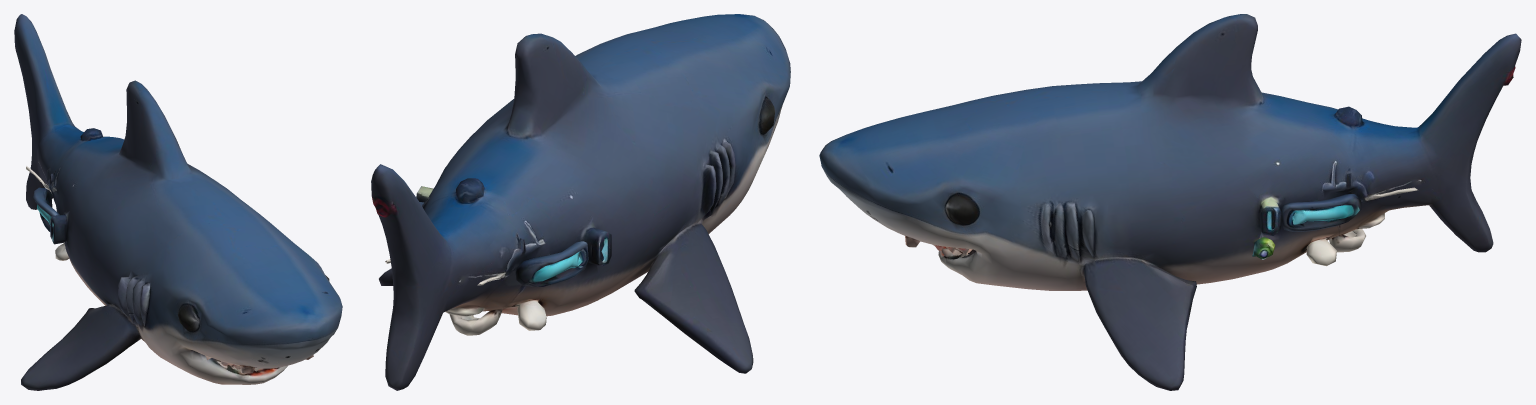
Rendered from hammerhead.glb.
3 renders of one model, left to right at view 1: azimuth 30°, elevation 25°; view 2: azimuth 150°, elevation 25°; view 3: azimuth 270°, elevation 25°, orthographic. The views are drawn at different scales.
Visible parts, largest first — view 1: tripo_node_ee4e38db-86cb-4ace-af27-b6d1b95ac0a9; view 2: tripo_node_ee4e38db-86cb-4ace-af27-b6d1b95ac0a9; view 3: tripo_node_ee4e38db-86cb-4ace-af27-b6d1b95ac0a9.
Boxes of the visible parts, box(x1,y1,x2,y2) form: tripo_node_ee4e38db-86cb-4ace-af27-b6d1b95ac0a9: box(14, 14, 342, 390); tripo_node_ee4e38db-86cb-4ace-af27-b6d1b95ac0a9: box(371, 14, 790, 390); tripo_node_ee4e38db-86cb-4ace-af27-b6d1b95ac0a9: box(819, 14, 1521, 390).
Bounding box in the file's own units: 0.5613 × 0.4668 × 1.
1 material, 1 textured.
